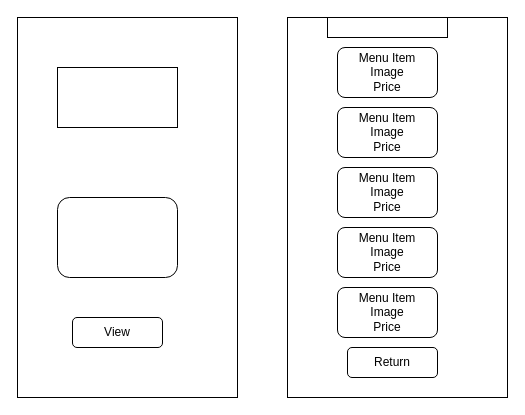
Some shapes in this 525 by 415 pixel diagram are drawn without their labels. The centre of each missing label's shape, as x and y in pixels:
"Menu" belongs at point (387, 27).
"Name Address Phone Number Link" belongs at point (117, 237).
"Restaurant Name" belongs at point (117, 97).
